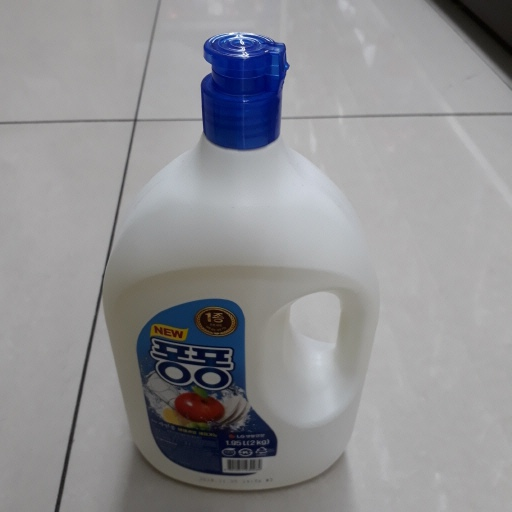Plastic_1: (103, 32, 383, 490)
